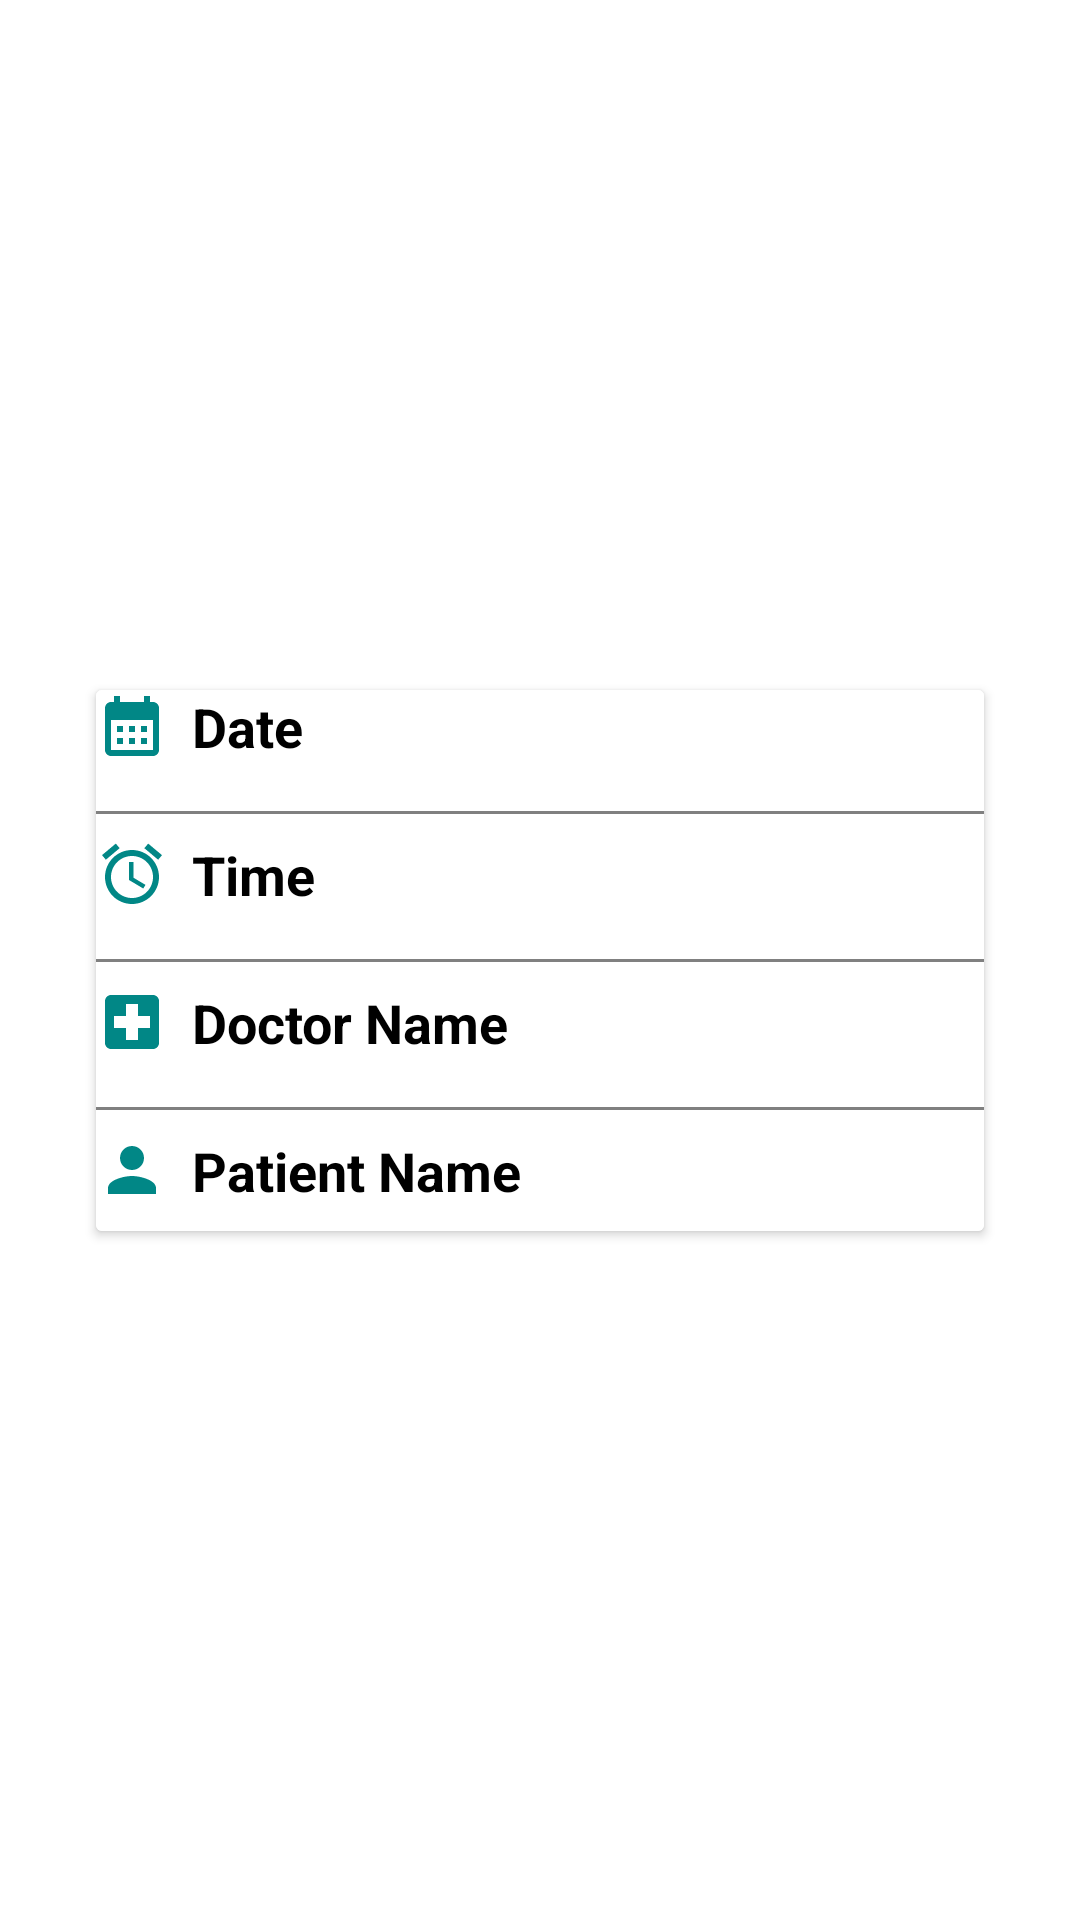

Named icons in this screenshot (1080×1920) and their centers, (x,y):
alarm: (132,873)
calendar month: (132,726)
local hospital: (132,1022)
person: (132,1170)
